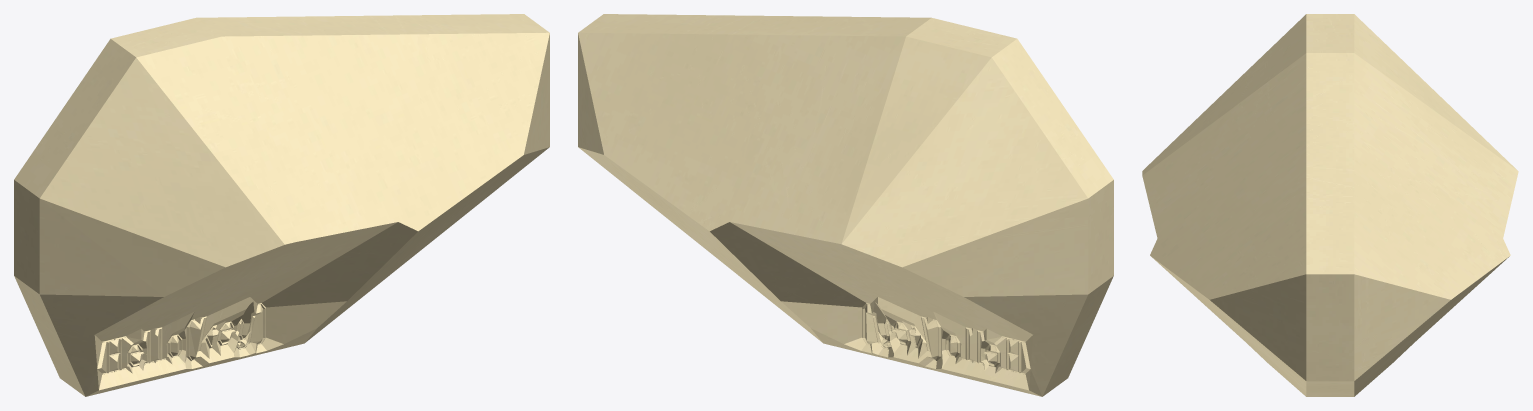
The model's file is key.gltf.
3 renders of one model, left to right at view 1: azimuth 30°, elevation 25°; view 2: azimuth 150°, elevation 25°; view 3: azimuth 270°, elevation 25°, orthographic. The views are drawn at different scales.
Parts seen in each view (by area): view 1: Mesh_0.004; view 2: Mesh_0.004; view 3: Mesh_0.004.
Part boxes in pixels (x1,y1,x2,y2): Mesh_0.004: [14, 14, 549, 396]; Mesh_0.004: [578, 14, 1113, 396]; Mesh_0.004: [1142, 14, 1518, 396].
Bounding box in the file's own units: 0.2597 × 0.1591 × 0.1773.
1 material, 1 textured.
